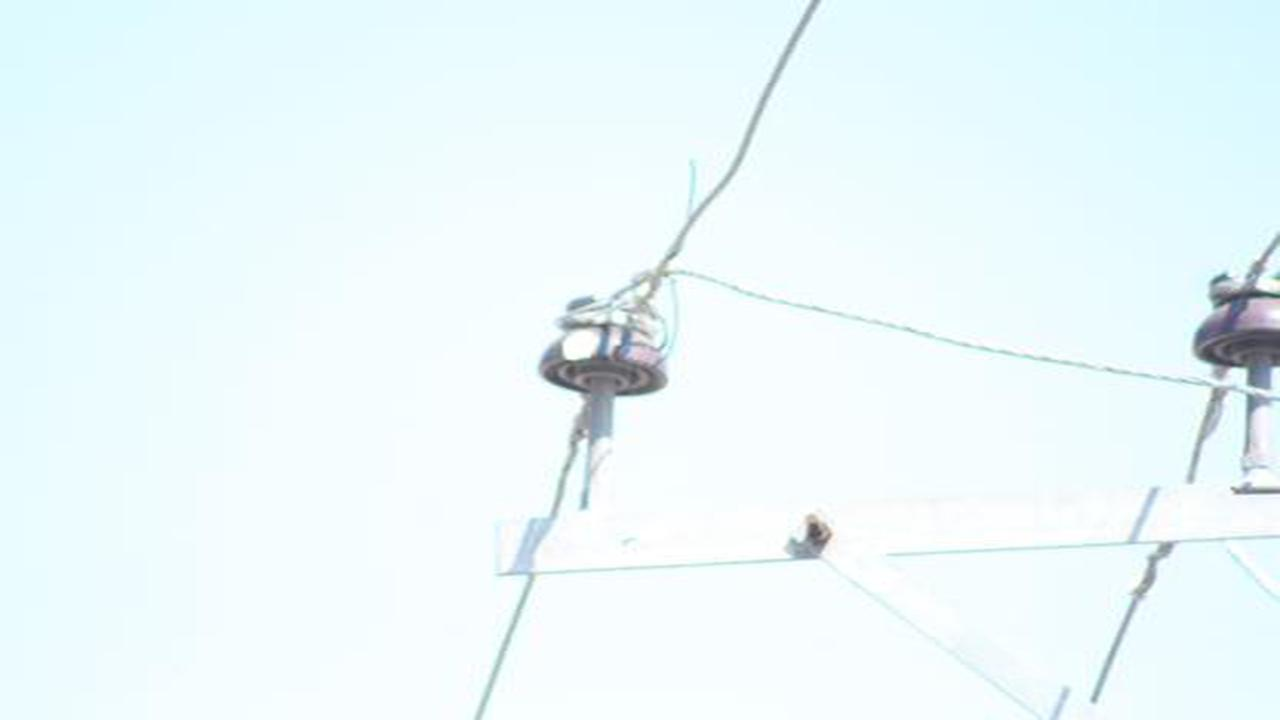defect_pin: (536, 285, 673, 400)
